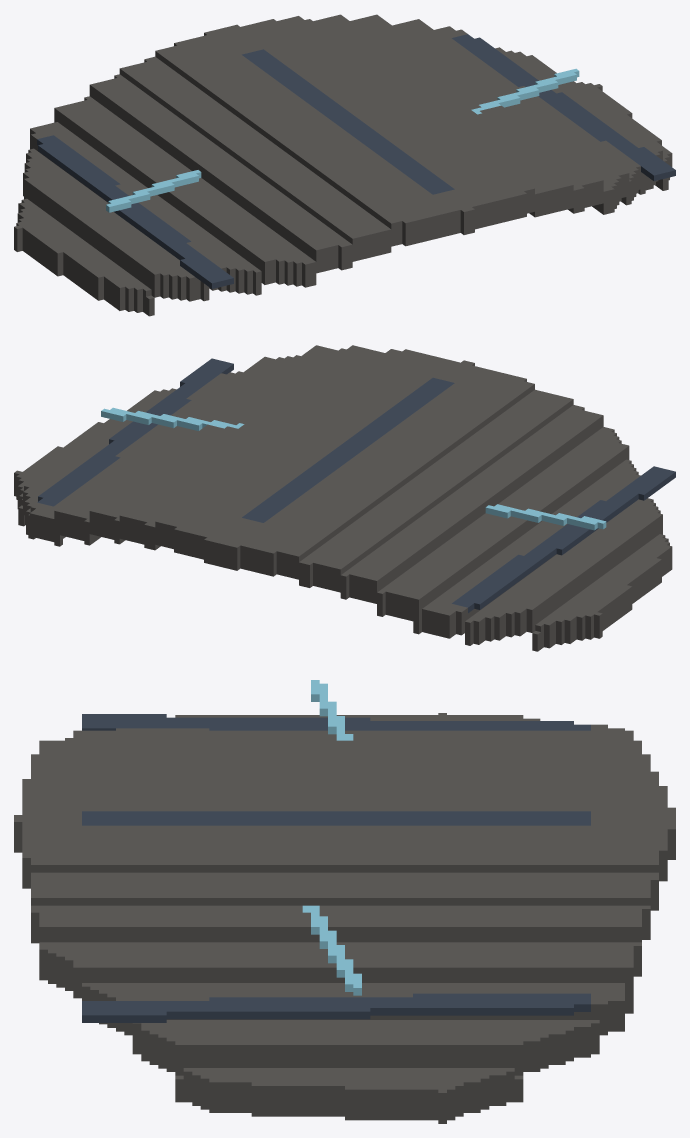
File: bulette_plate.glb
3 views of the same model, one above another, from view 1: azimuth 30°, elevation 25°; view 2: azimuth 150°, elevation 25°; view 3: azimuth 270°, elevation 25° (orthographic). The views are drawn at different scales.
Parts seen in each view (by area): view 1: bulette_plate:compound; view 2: bulette_plate:compound; view 3: bulette_plate:compound.
Boxes of the visible parts, box(x1,y1,x2,y2) form: bulette_plate:compound: box(14, 14, 675, 316); bulette_plate:compound: box(14, 345, 675, 651); bulette_plate:compound: box(14, 680, 675, 1123).
Size of the model in its own units: 0.848 by 0.12 by 0.624.
